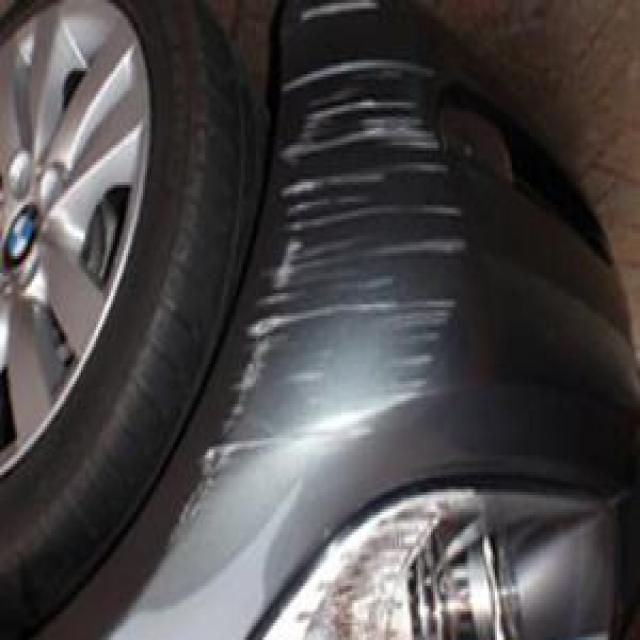scratch: (198, 18, 470, 488)
